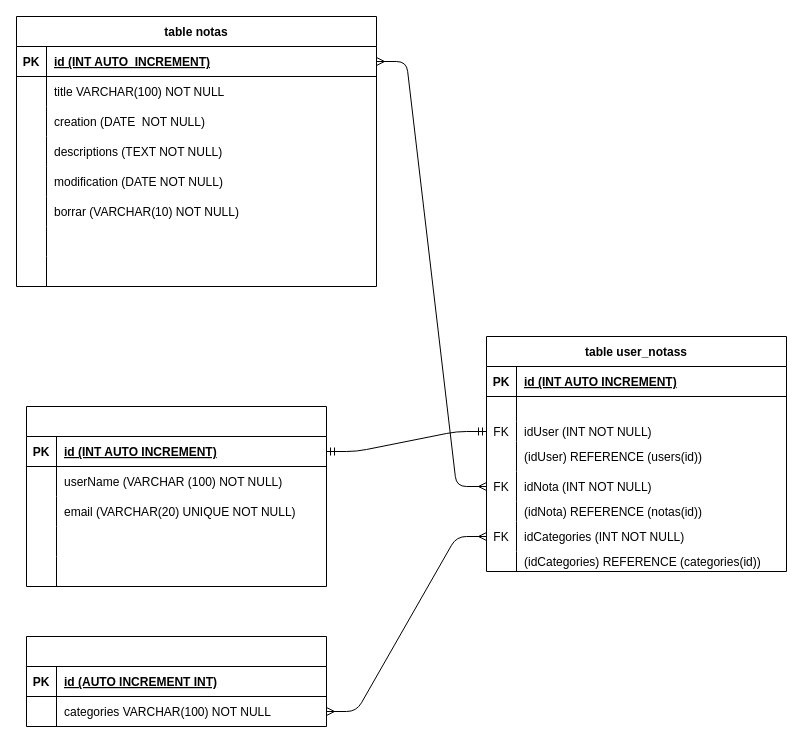
Image size: 803x743. Some labels were removed from this diagram. The box of each missing label's shape, as (x1, y1, x2, y2) in pixels:
table categories: (26, 636, 326, 726)
table users: (26, 406, 326, 586)
